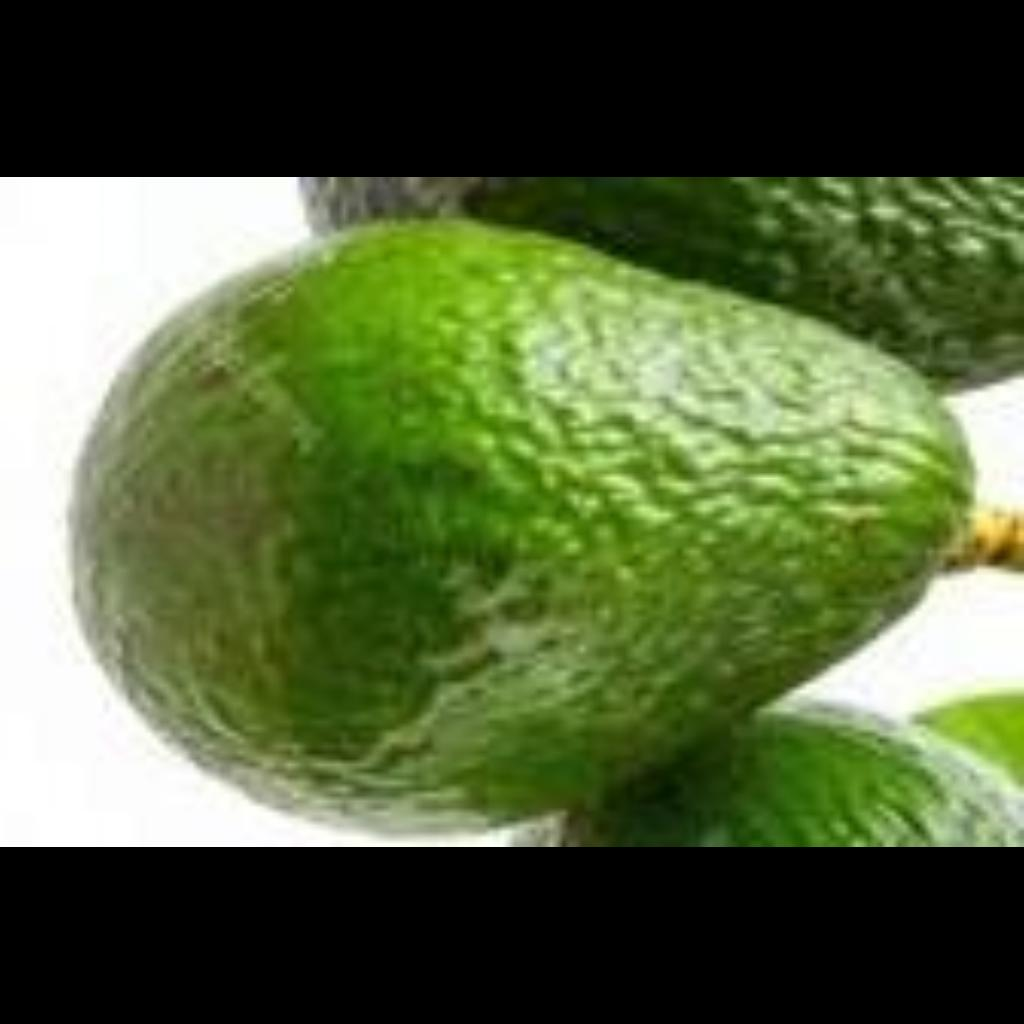fruto_sano: (69, 177, 1015, 811)
